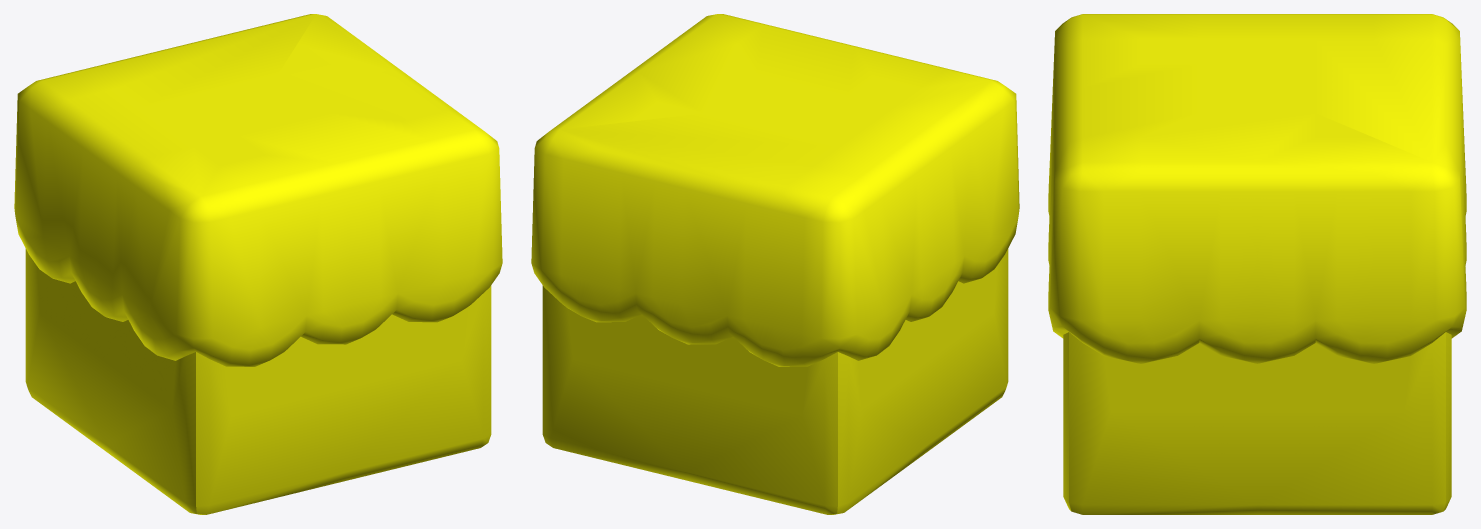
Rendered from kaykit-tree-with-snow.glb.
The picture shows the model from 3 angles, left to right: view 1: azimuth 30°, elevation 25°; view 2: azimuth 150°, elevation 25°; view 3: azimuth 270°, elevation 25°; orthographic projection. The views are drawn at different scales.
Parts seen in each view (by area): view 1: tree_with_snow; view 2: tree_with_snow; view 3: tree_with_snow.
Part boxes in pixels (box(x1,y1,x2,y2)): tree_with_snow: box(14, 14, 502, 514); tree_with_snow: box(531, 14, 1019, 514); tree_with_snow: box(1048, 14, 1466, 514).
Size of the model in its own units: 2.16 by 2 by 2.16.
